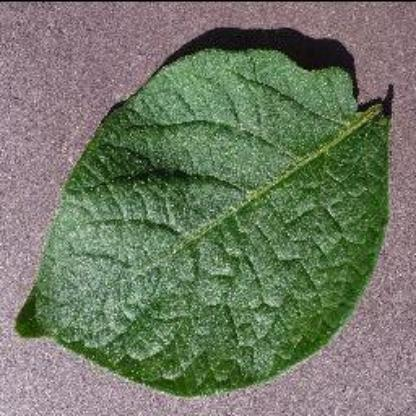Healthy-plant: (11, 40, 406, 400)
